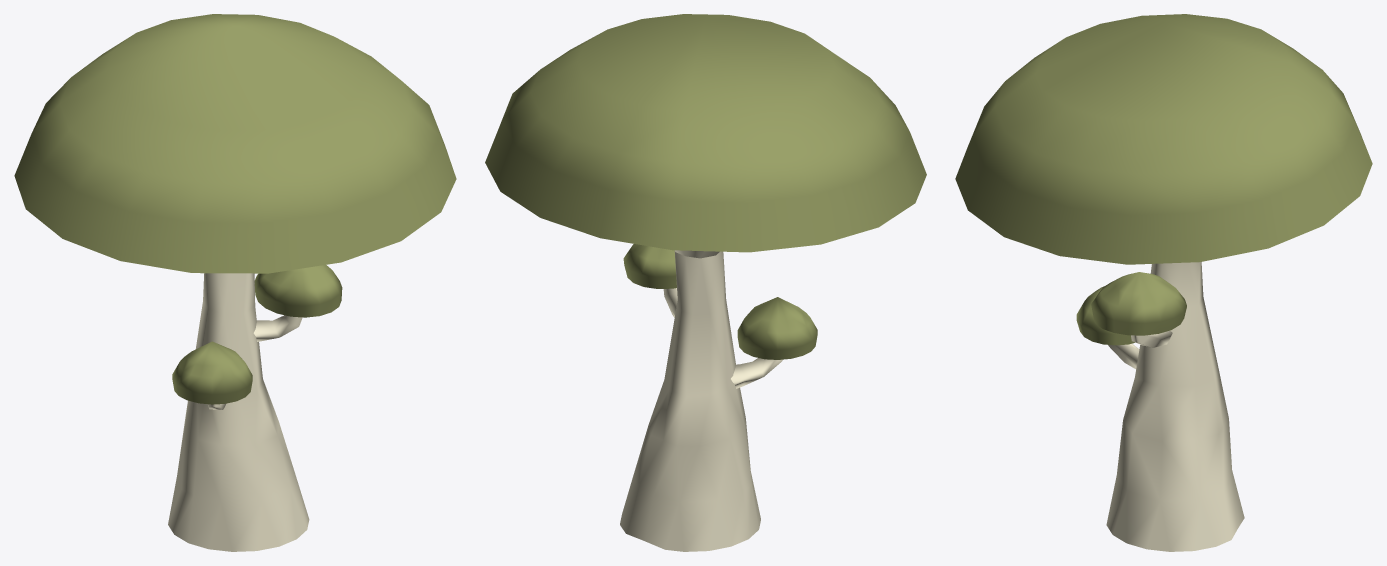
File: tree8.fbx
The picture shows the model from 3 angles, left to right: view 1: azimuth 30°, elevation 25°; view 2: azimuth 150°, elevation 25°; view 3: azimuth 270°, elevation 25°; orthographic projection.
Visible parts, largest first — view 1: Tree10_Crown_1, TreeMushroom10_4, Tree10_Crown_3, Tree10_Crown_2; view 2: Tree10_Crown_1, TreeMushroom10_4, Tree10_Crown_3, Tree10_Crown_2; view 3: Tree10_Crown_1, TreeMushroom10_4, Tree10_Crown_2, Tree10_Crown_3.
Part boxes in pixels (left/top/right/bottom): Tree10_Crown_1: left=14, top=14, right=456, bottom=273; TreeMushroom10_4: left=168, top=273, right=309, bottom=551; Tree10_Crown_3: left=172, top=341, right=252, bottom=404; Tree10_Crown_2: left=254, top=265, right=342, bottom=317; Tree10_Crown_1: left=485, top=14, right=926, bottom=252; TreeMushroom10_4: left=620, top=250, right=782, bottom=551; Tree10_Crown_3: left=737, top=297, right=817, bottom=359; Tree10_Crown_2: left=623, top=244, right=676, bottom=288; Tree10_Crown_1: left=955, top=14, right=1372, bottom=264; TreeMushroom10_4: left=1106, top=262, right=1244, bottom=551; Tree10_Crown_2: left=1091, top=272, right=1186, bottom=335; Tree10_Crown_3: left=1076, top=286, right=1134, bottom=345.
Bounding box in the file's own units: 14.32 × 17.96 × 13.72.
